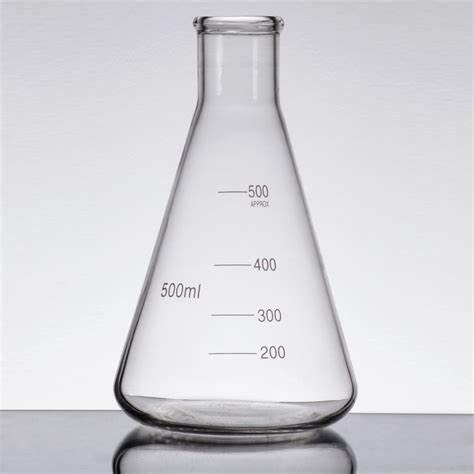Titrarion: (119, 5, 363, 442)
